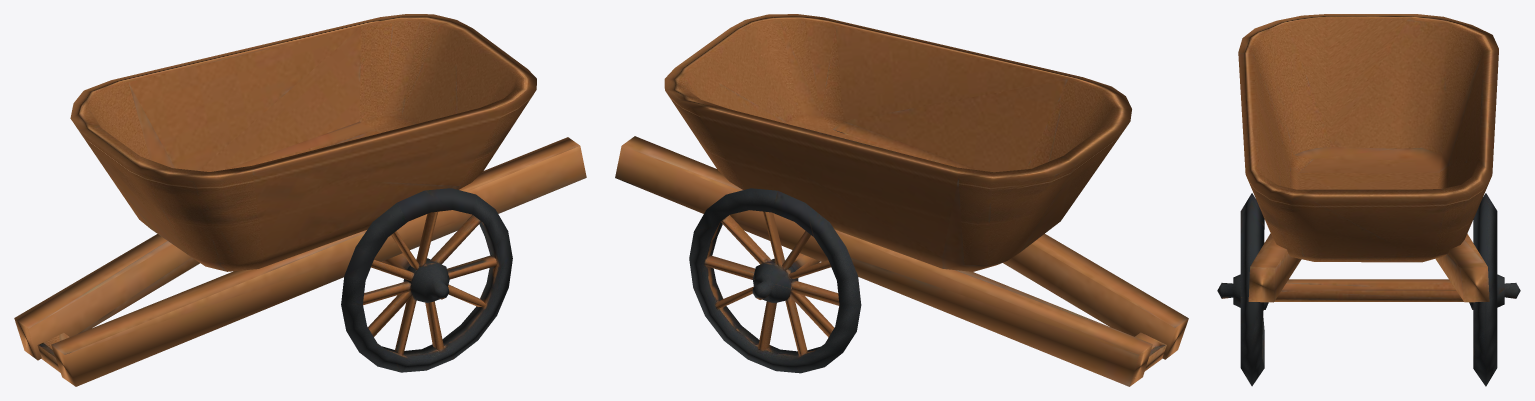
Rendered from hills-wheelbarrow.glb.
3 views of the same model, side by side, from view 1: azimuth 30°, elevation 25°; view 2: azimuth 150°, elevation 25°; view 3: azimuth 270°, elevation 25° (orthographic). The views are drawn at different scales.
Size of the model in its own units: 0.959 by 0.4683 by 0.5289.
Materials: 1 (1 with a texture image).
